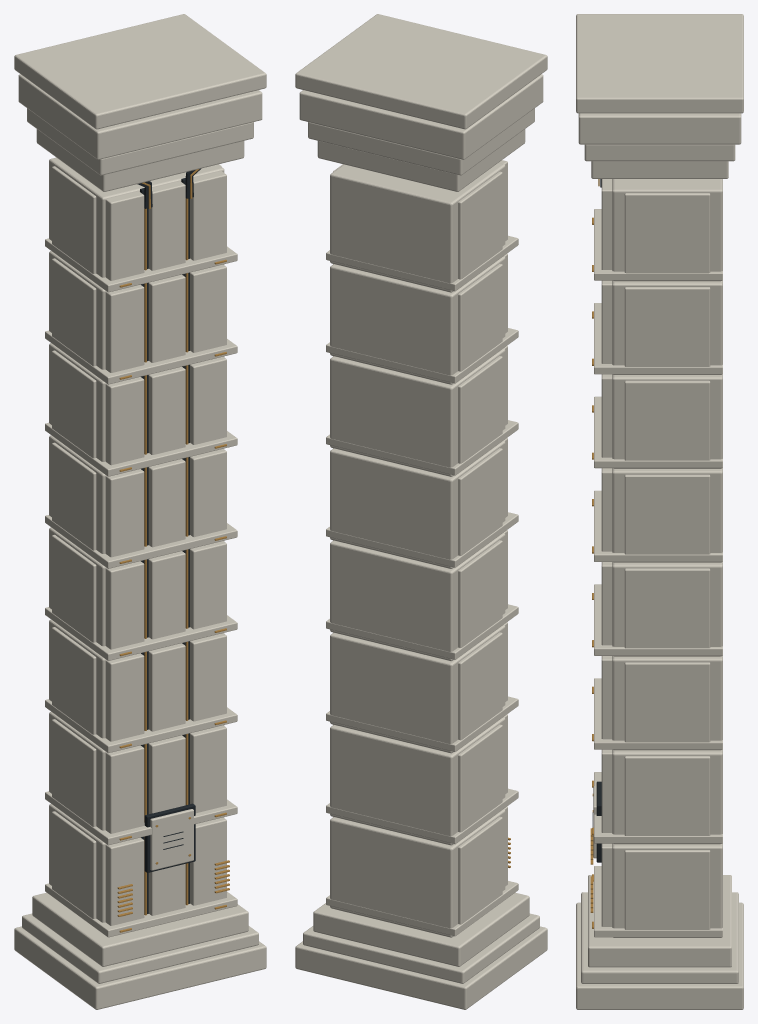
Rendered from SM_Aurelion_KIT_Z09EngagedPier.fbx.
3 views of the same model, side by side, from view 1: azimuth 30°, elevation 25°; view 2: azimuth 150°, elevation 25°; view 3: azimuth 270°, elevation 25° (orthographic).
Parts seen in each view (by area): view 1: SM_Aurelion_KIT_Z09EngagedPier; view 2: SM_Aurelion_KIT_Z09EngagedPier; view 3: SM_Aurelion_KIT_Z09EngagedPier.
Boxes of the visible parts, x1,y1,x2,y2 form: SM_Aurelion_KIT_Z09EngagedPier: [14, 14, 266, 1009]; SM_Aurelion_KIT_Z09EngagedPier: [295, 14, 547, 1009]; SM_Aurelion_KIT_Z09EngagedPier: [576, 14, 743, 1009].
Size of the model in its own units: 120 by 100 by 600.
